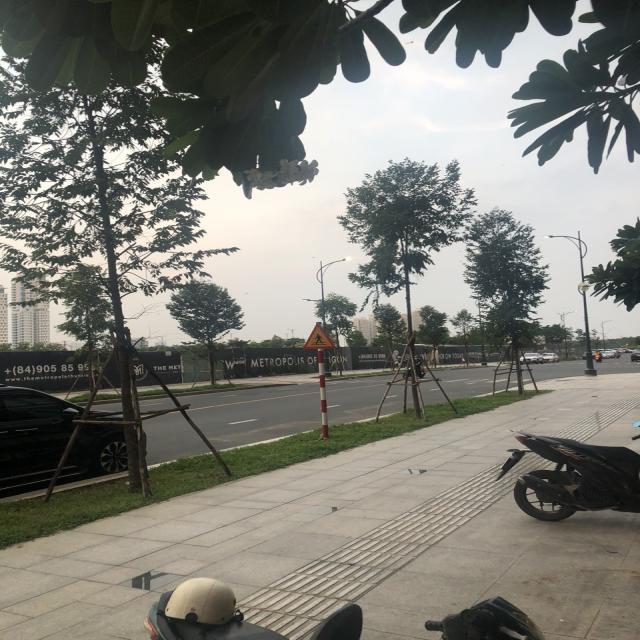Bien bao duong nguoi di bo cat ngang: (296, 321, 340, 352)
